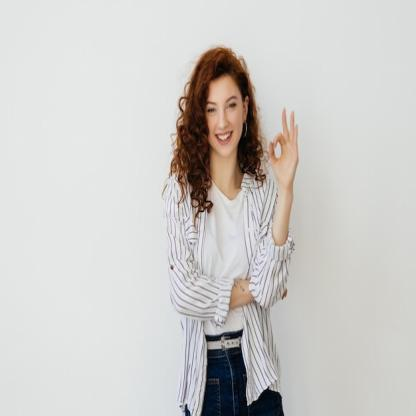ok: (264, 104, 302, 194)
